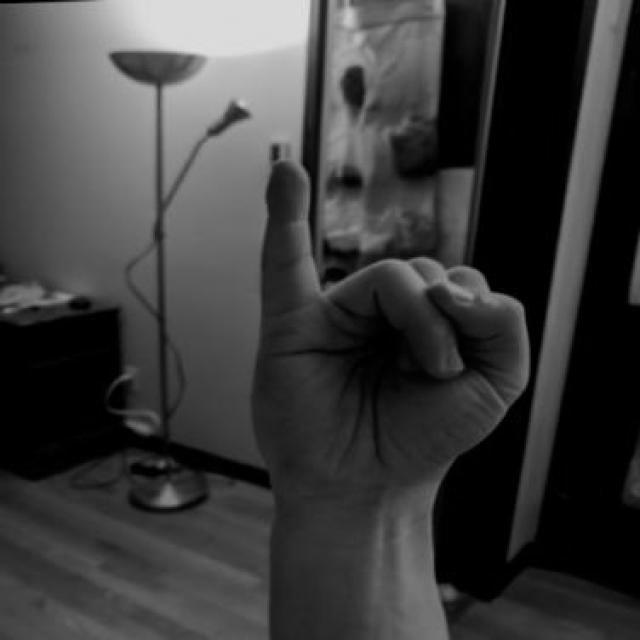I: (240, 142, 546, 513)
